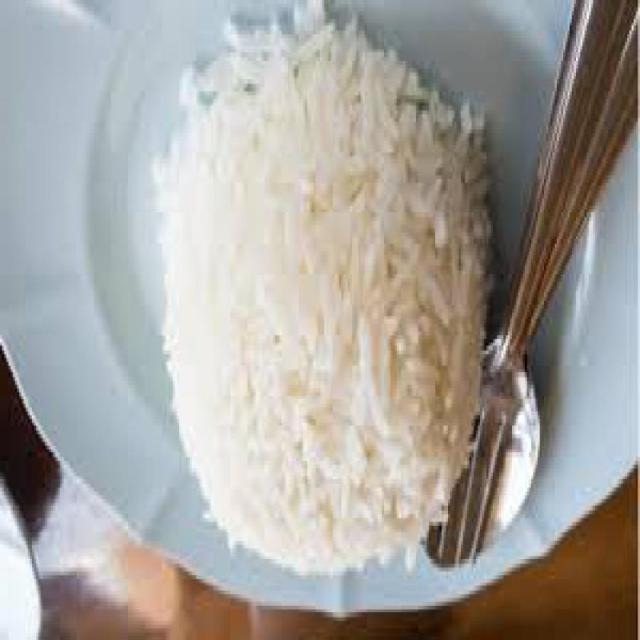nasi_putih: (158, 0, 494, 575)
